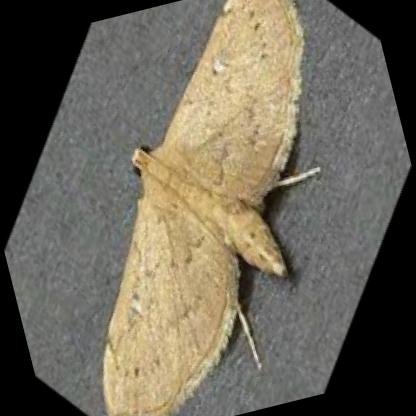Leaf Webber: (103, 0, 308, 416)
